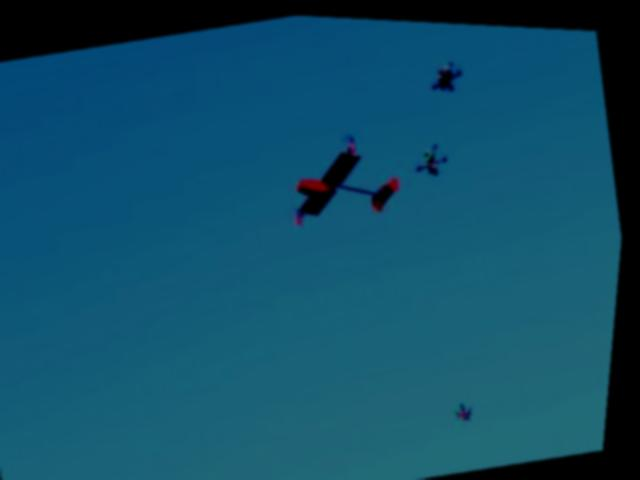uav: (273, 108, 426, 241)
